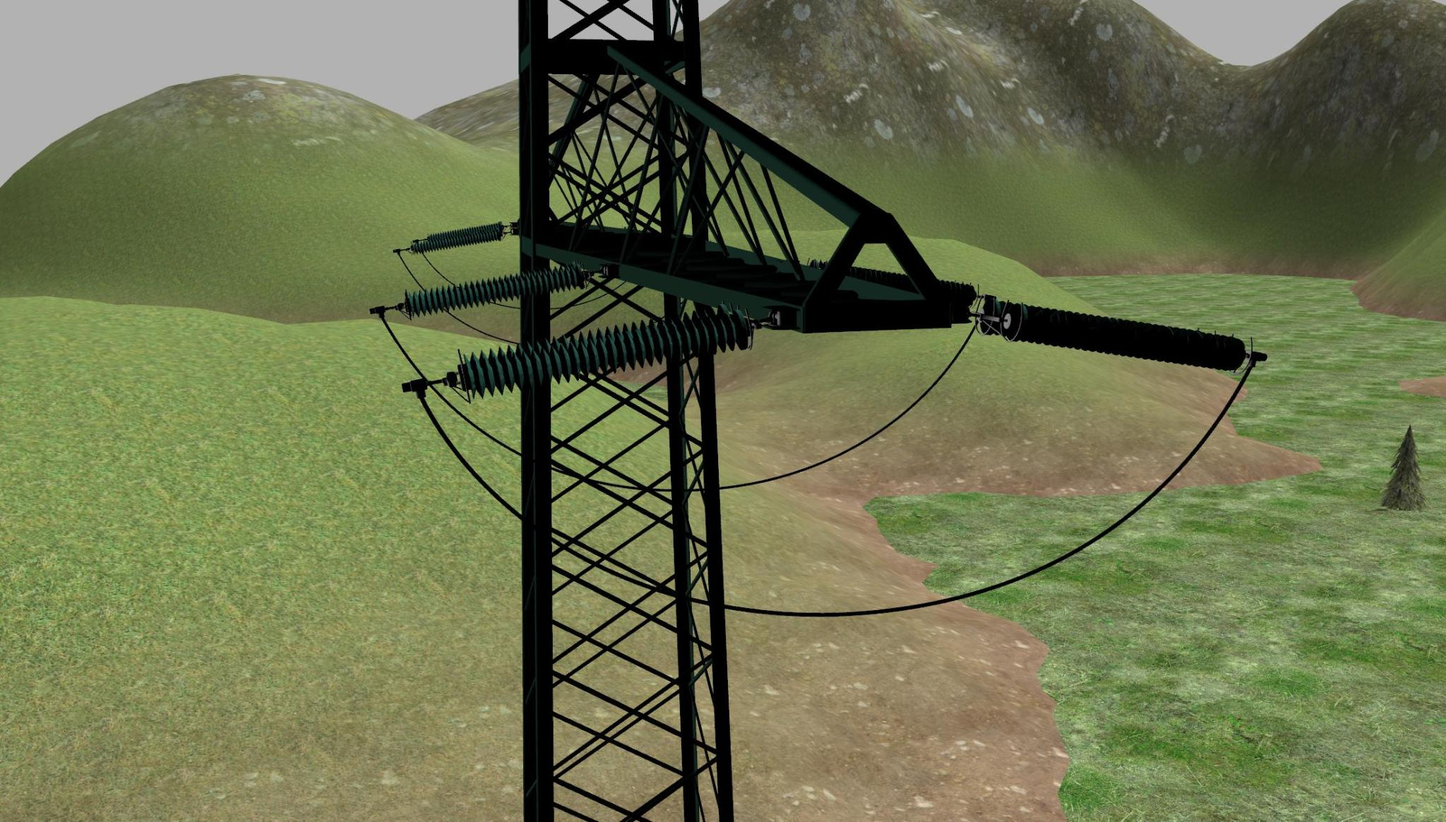tower: (498, 1, 950, 822)
